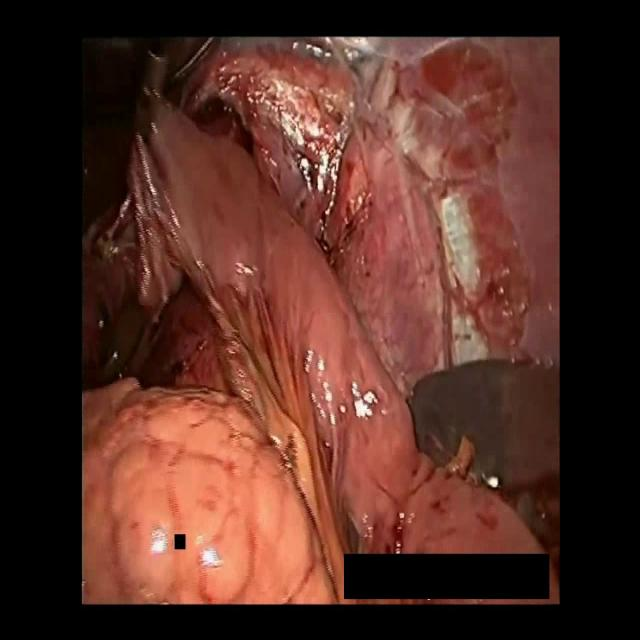surgical-area: (81, 36, 560, 603)
